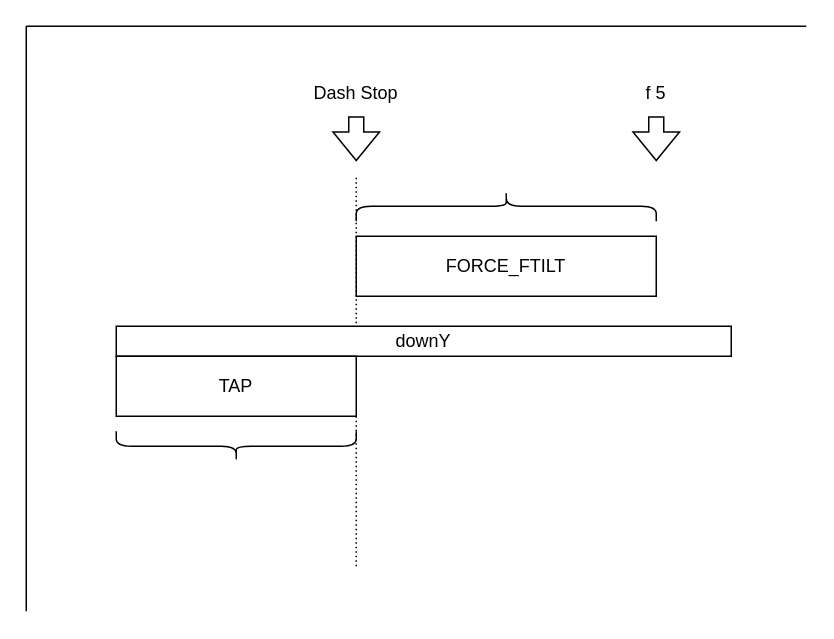
Some shapes in this 834 by 639 pixel diagram are drawn without their labels. The shapes that lost their labels are listed below. From the top down, each one's centre as x and y in pixels, then its label:
point (505, 205): 5 frames
point (235, 445): 4 frames
